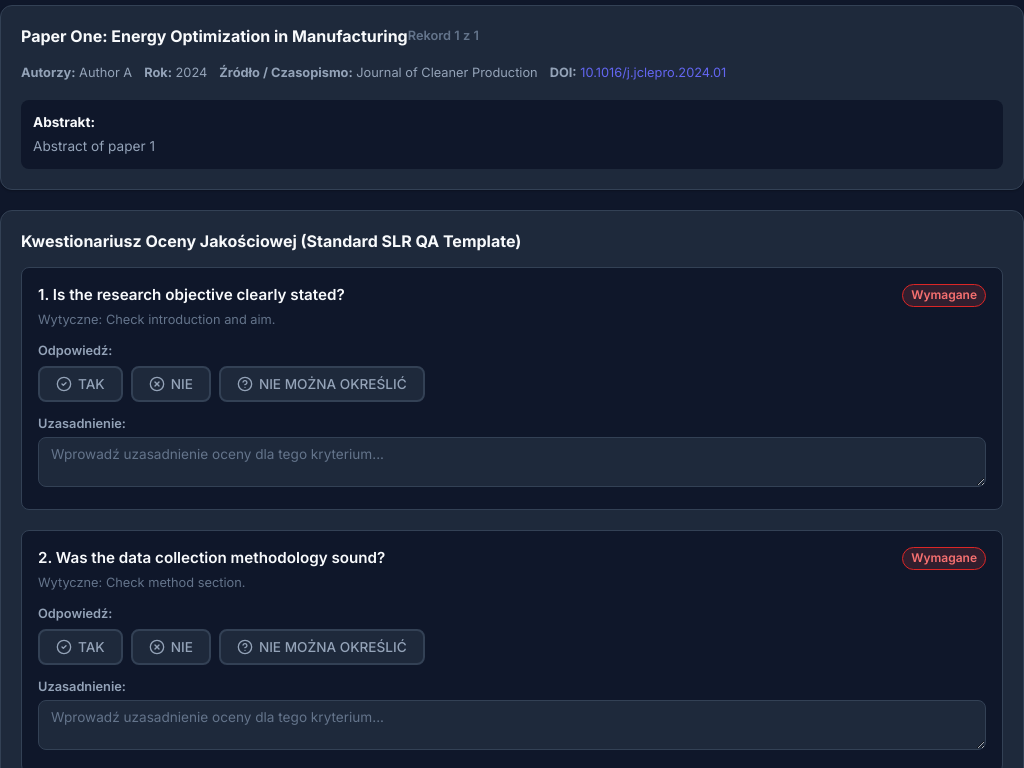
Test case: Quality Assessment & Workflow Regression Tests › Issue 2C: Saving only remaining UNASSESSED item transitions to empty/completed list
(page scrolled)
Check: the text "Paper One: Energy Optimization in Manufacturing" is shown, box [21, 26, 408, 47]
Click the button "TAK" below "Check introduction and aim." at (80, 384), box [38, 366, 123, 402]
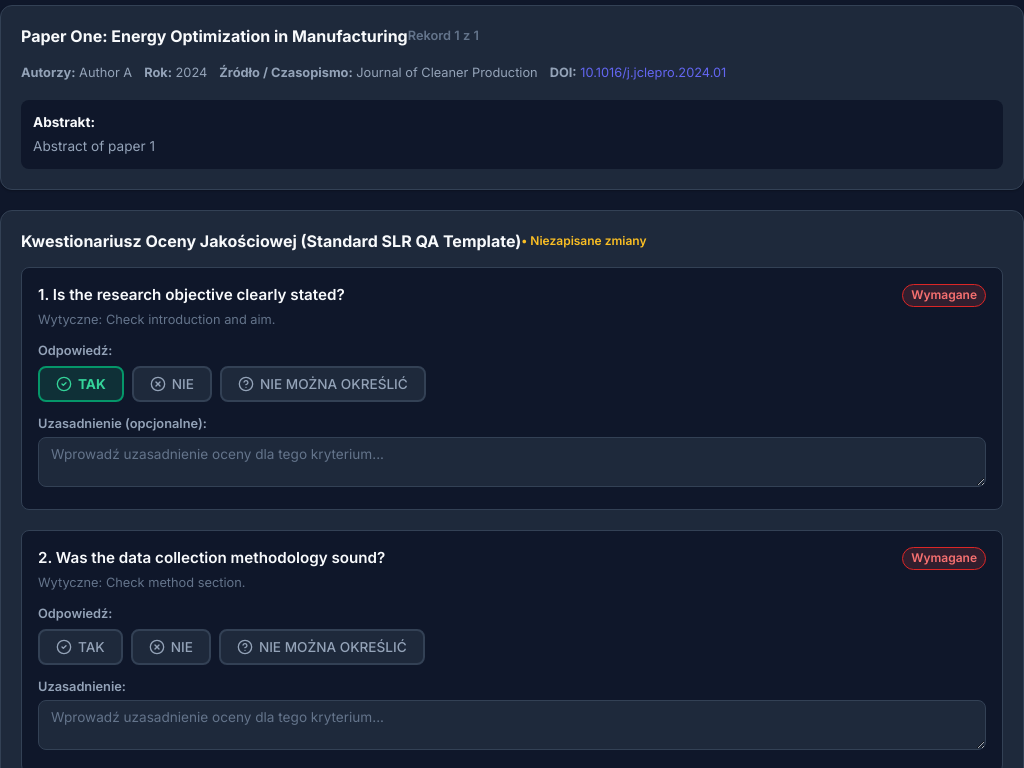
Click the button "TAK" below "Check method section." at (80, 647), box [38, 629, 123, 665]
(page scrolled)
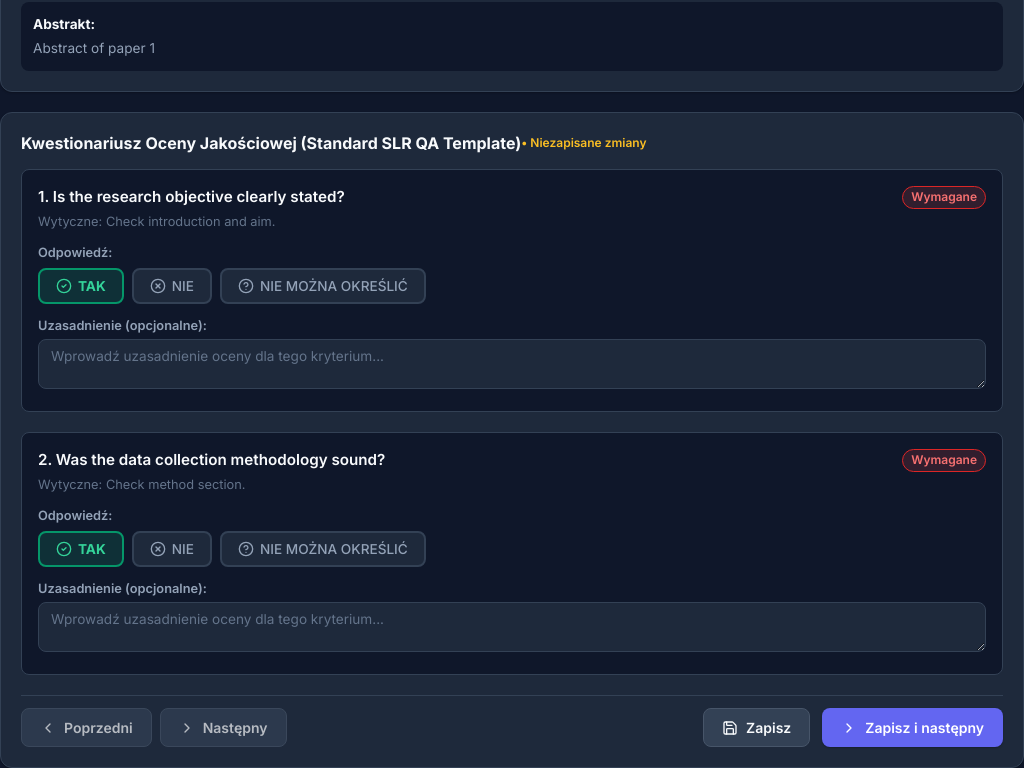
Click the button "Zapisz i następny" at (913, 728), box [822, 708, 1003, 748]
(page scrolled)
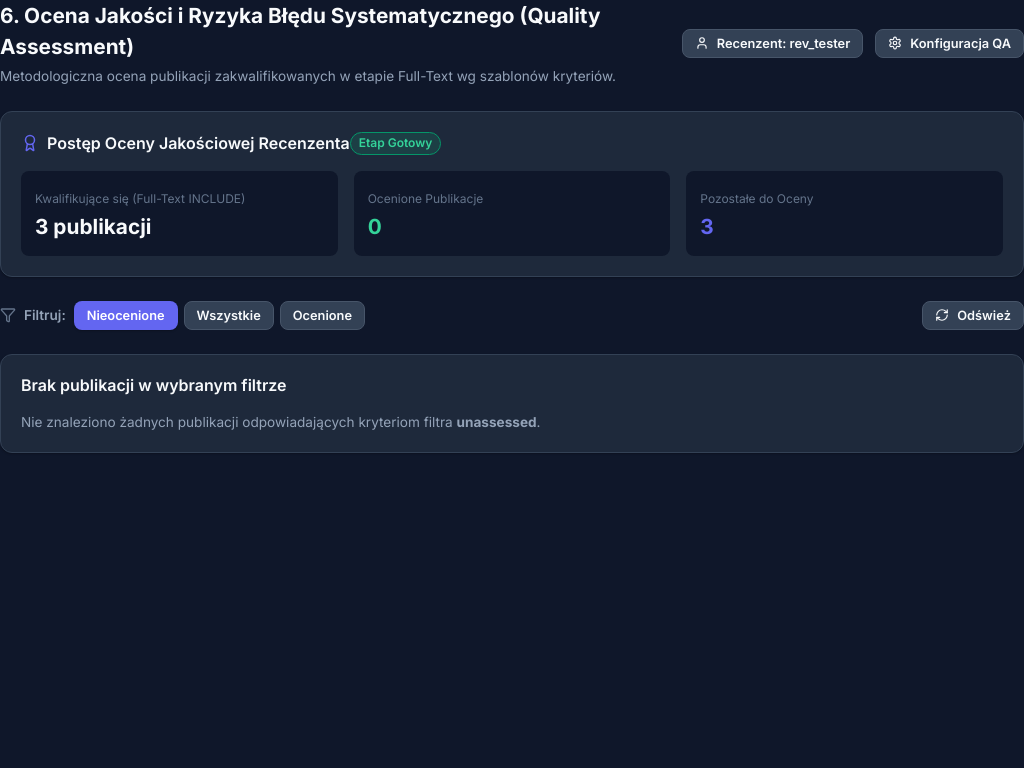
Check: the heading "Brak publikacji w wybranym filtrze" is shown, box [21, 375, 286, 396]
